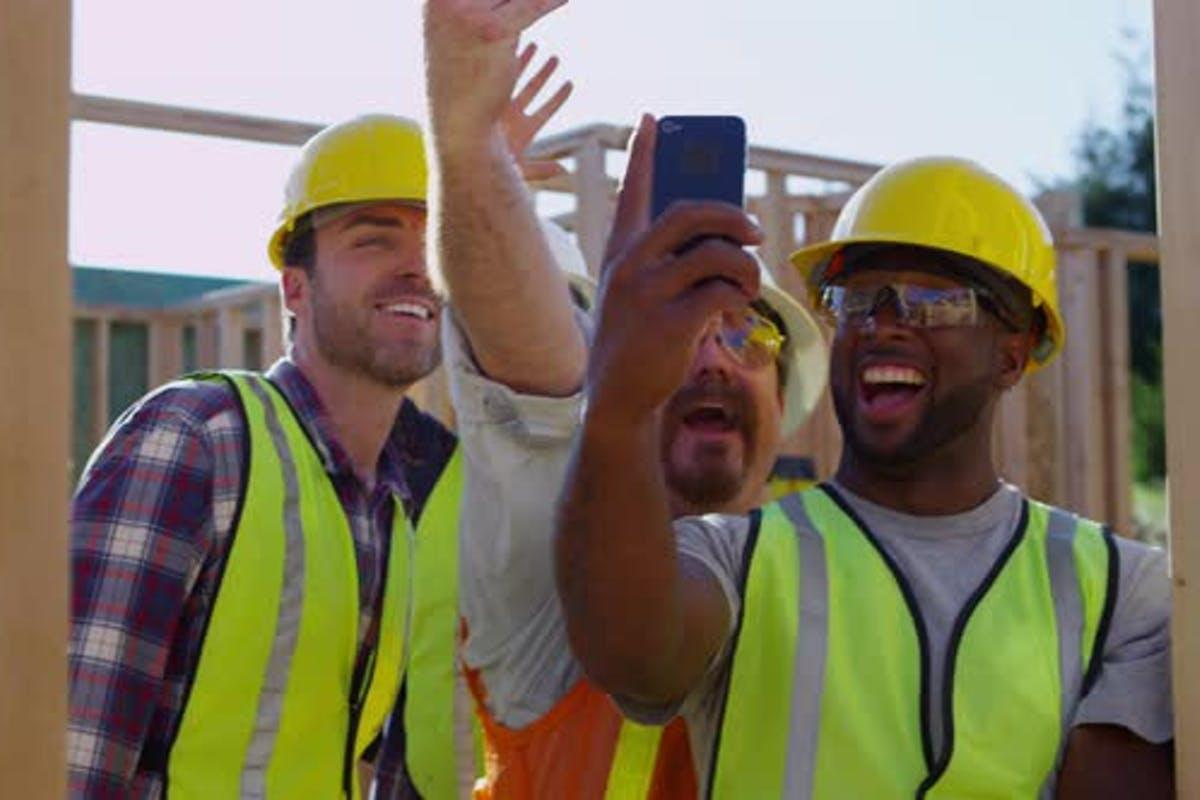helmet: (789, 153, 1064, 319)
